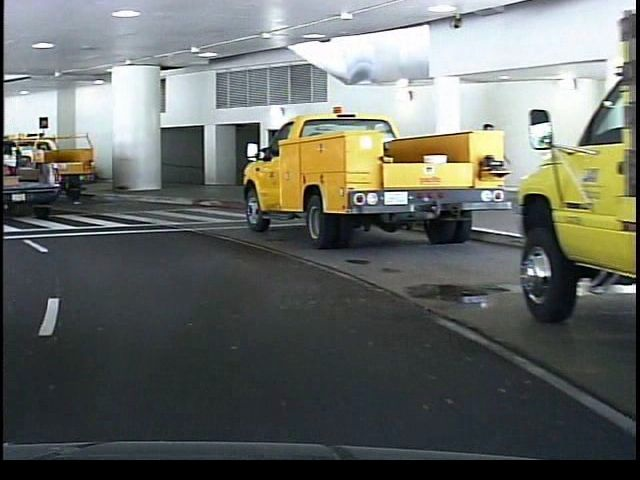person: (469, 114, 501, 216)
